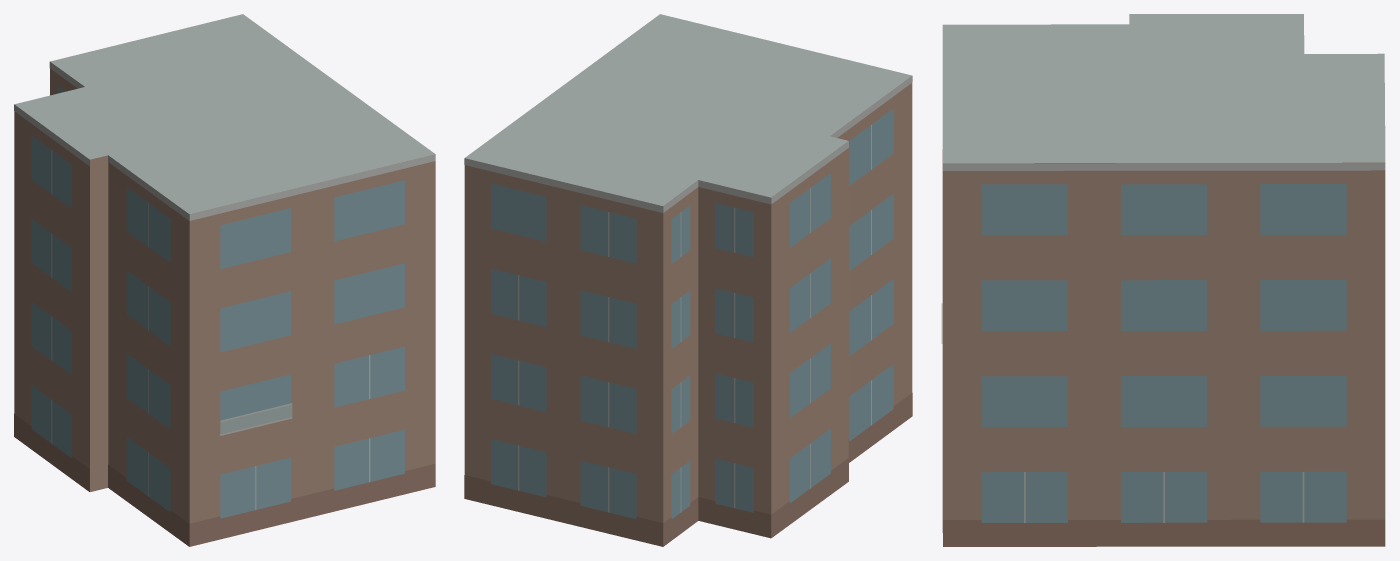
Rendered from survey-upis-32930281.glb.
3 renders of one model, left to right at view 1: azimuth 30°, elevation 25°; view 2: azimuth 150°, elevation 25°; view 3: azimuth 270°, elevation 25°, orthographic. The views are drawn at different scales.
Parts seen in each view (by area): view 1: survey-upis-32930281.tmp; view 2: survey-upis-32930281.tmp; view 3: survey-upis-32930281.tmp.
Part boxes in pixels (<box>): survey-upis-32930281.tmp: <box>14,14,435,546</box>; survey-upis-32930281.tmp: <box>464,14,912,546</box>; survey-upis-32930281.tmp: <box>941,14,1385,546</box>.
Size of the model in its own units: 10.11 by 12.1 by 12.7.
